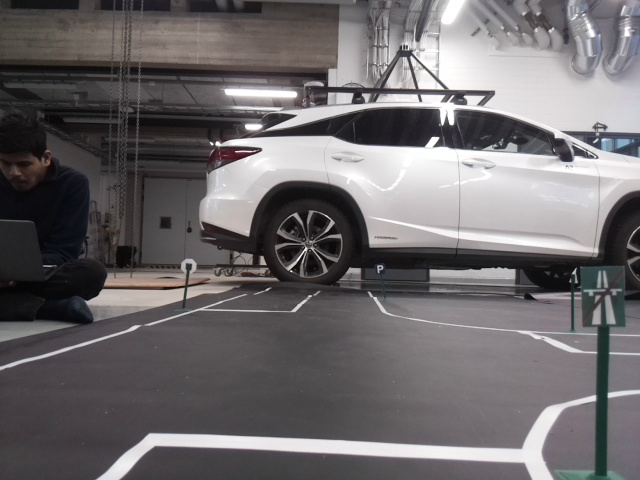HighwayExit: (581, 267, 625, 325)
